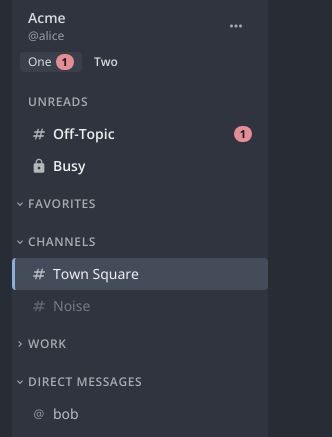
Test: server menu: "Add server" sits above Sign out/Remove server and closes the menu
This screenshot has width=332, height=437.
Click the button named "Server menu".
click(236, 26)  # box [220,10,252,42]
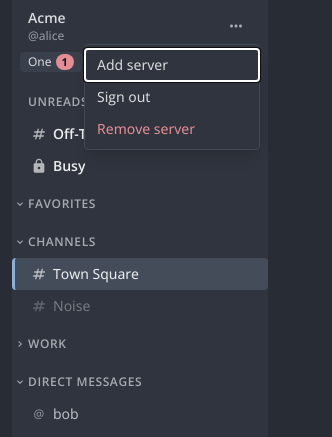
Check: the menu items read "Add server", "Sign out", "Remove server", in this order
Click the menu item "Add server".
click(172, 65)  # box [85,49,259,81]
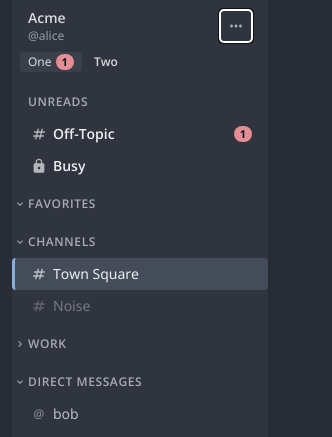
Check: the menu is gone
